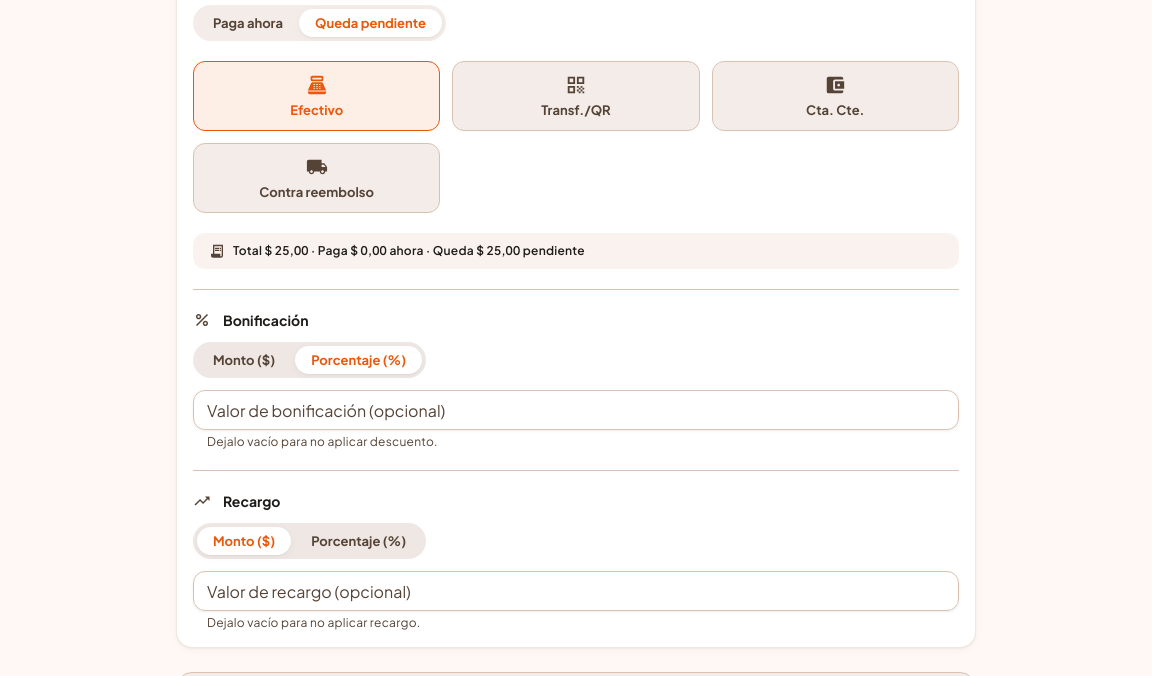
Scenario: NewOrderPage — order-level bonification › computes a percentage discount live and submits it
Earlier steps of the test are not shown.
Later steps or results of the test are not shown.
(page scrolled)
Step 1. Type "10" into the number field labelled "Valor de bonificación (opcional)" → point(576, 410), box [193,390,959,430]
(page scrolled)
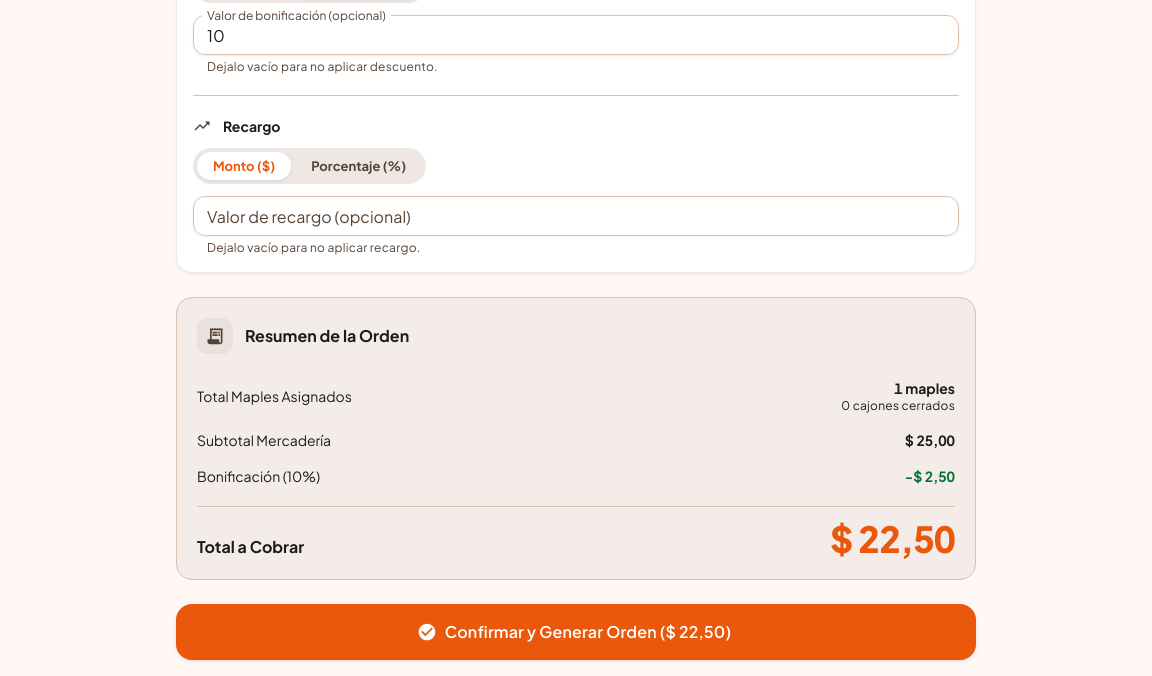
Result: the heading "$ 22,50" is shown at [830,519,955,559]
Result: the text "Bonificación (10%)" is shown at [197,466,320,486]
